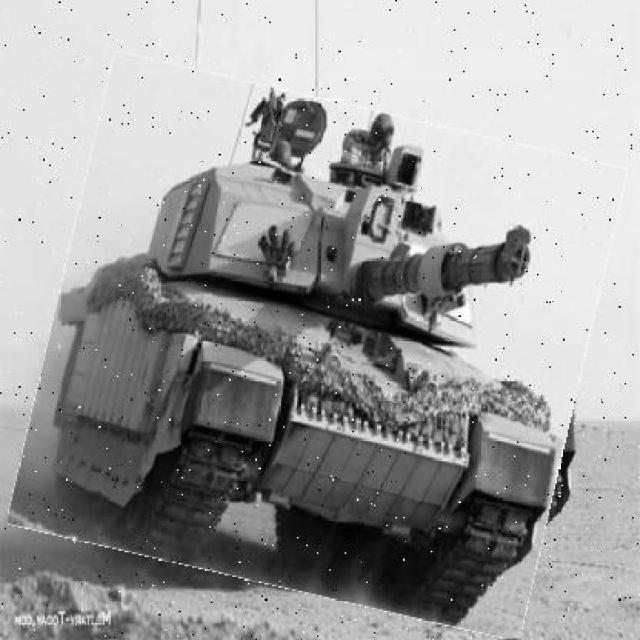Person: (296, 101, 349, 164)
Tank: (30, 78, 604, 615)
